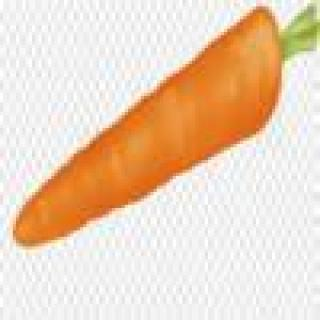Wortel: (20, 1, 315, 273)
